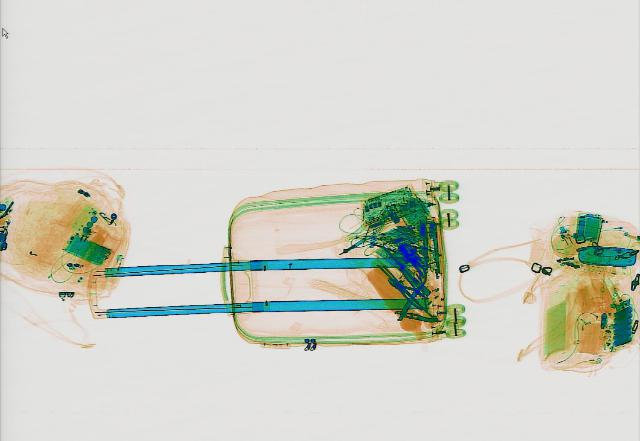Pliers: (378, 273, 434, 310)
